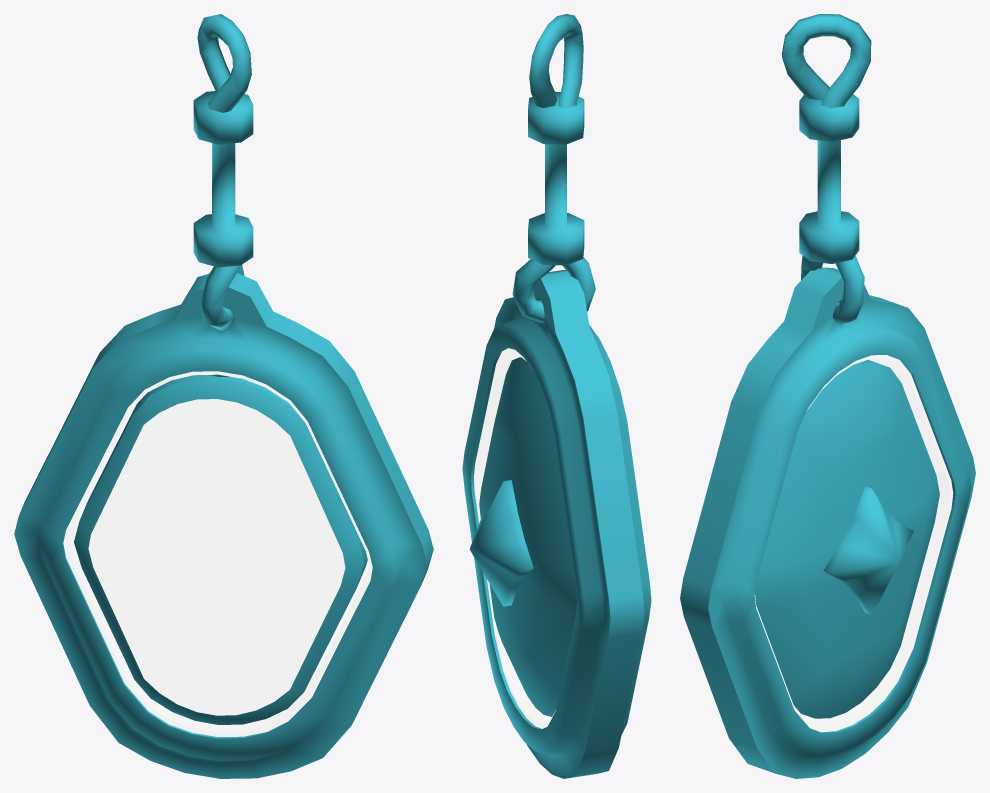
File: platinum.glb
The picture shows the model from 3 angles, left to right: view 1: azimuth 30°, elevation 25°; view 2: azimuth 150°, elevation 25°; view 3: azimuth 270°, elevation 25°; orthographic projection.
Visible parts, largest first — view 1: GN_Buddies_RankEP8_Platinum_Skelmesh.mo.001; view 2: GN_Buddies_RankEP8_Platinum_Skelmesh.mo.001; view 3: GN_Buddies_RankEP8_Platinum_Skelmesh.mo.001.
Boxes of the visible parts, bbox=[...] form: GN_Buddies_RankEP8_Platinum_Skelmesh.mo.001: bbox=[14, 14, 433, 778]; GN_Buddies_RankEP8_Platinum_Skelmesh.mo.001: bbox=[462, 14, 651, 778]; GN_Buddies_RankEP8_Platinum_Skelmesh.mo.001: bbox=[680, 14, 975, 778].
Bounding box in the file's own units: 0.0204 × 0.049 × 0.0176.
